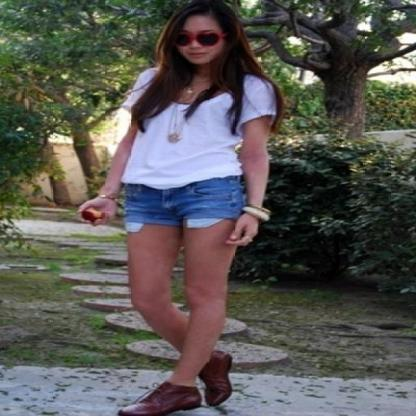shirt: (120, 66, 276, 188)
shoe: (117, 351, 232, 415)
shorts: (112, 175, 253, 234)
sunglass: (188, 31, 218, 46)
